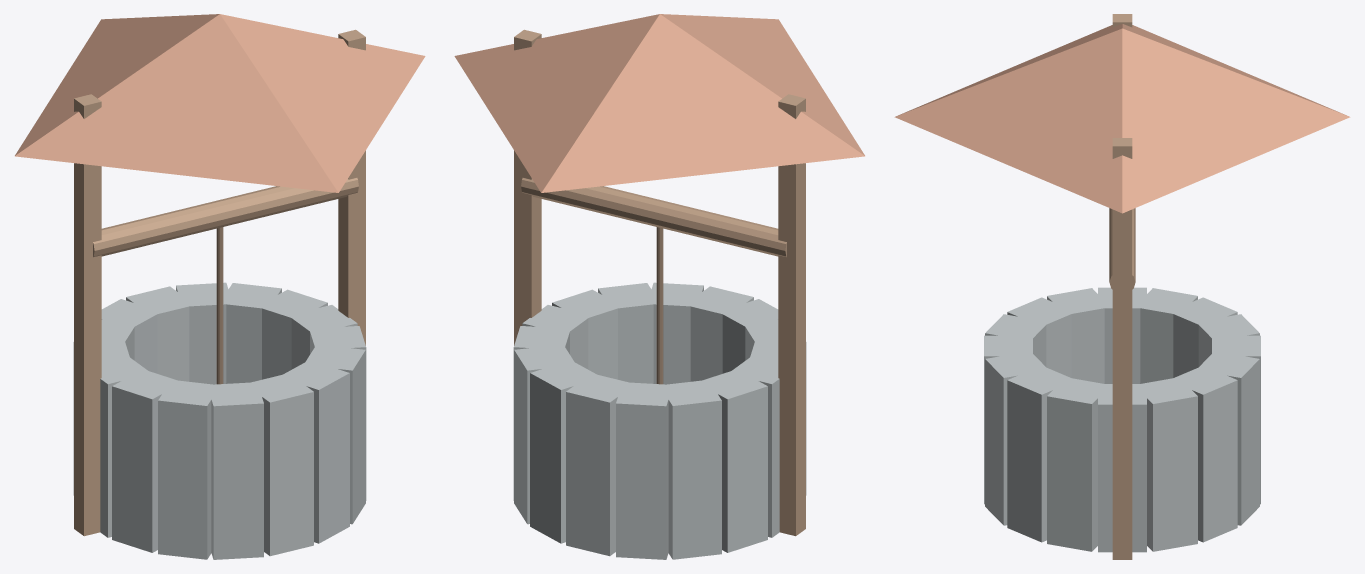
Rendered from well.glb.
3 views of the same model, side by side, from view 1: azimuth 30°, elevation 25°; view 2: azimuth 150°, elevation 25°; view 3: azimuth 270°, elevation 25° (orthographic). The views are drawn at different scales.
Parts seen in each view (by area): view 1: well_018, well_016, well_010, well_011, well_012, well_009, well_019, well_013, well_017, well_002, well_014, well_003 (+9 smaller); view 2: well_018, well_016, well_006, well_005, well_004, well_007, well_019, well_003, well_017, well_014, well_002, well_013 (+9 smaller); view 3: well_018, well_001, well_015, well_017, well_002, well_014, well_000, well_003, well_013, well_007, well_009, well_010 (+7 smaller).
Boxes of the visible parts, left/top/right/bottom form: well_018: left=15, top=14, right=425, bottom=192; well_016: left=74, top=94, right=101, bottom=536; well_010: left=158, top=380, right=212, bottom=559; well_011: left=207, top=382, right=263, bottom=559; well_012: left=252, top=373, right=313, bottom=556; well_009: left=112, top=369, right=182, bottom=552; well_019: left=93, top=178, right=358, bottom=257; well_013: left=283, top=362, right=349, bottom=543; well_017: left=338, top=29, right=365, bottom=345; well_002: left=223, top=283, right=281, bottom=383; well_014: left=304, top=347, right=365, bottom=524; well_003: left=176, top=282, right=231, bottom=384; well_018: left=454, top=14, right=864, bottom=192; well_016: left=778, top=94, right=805, bottom=536; well_006: left=664, top=380, right=721, bottom=559; well_005: left=616, top=382, right=671, bottom=559; well_004: left=566, top=373, right=627, bottom=556; well_007: left=697, top=369, right=767, bottom=552; well_019: left=521, top=178, right=786, bottom=257; well_003: left=530, top=362, right=596, bottom=543; well_017: left=514, top=29, right=541, bottom=345; well_014: left=598, top=283, right=653, bottom=383; well_002: left=514, top=347, right=575, bottom=524; well_013: left=647, top=282, right=703, bottom=384; well_018: left=894, top=24, right=1350, bottom=213; well_001: left=1134, top=377, right=1197, bottom=551; well_015: left=1047, top=378, right=1110, bottom=551; well_017: left=1112, top=138, right=1132, bottom=559; well_002: left=1169, top=368, right=1237, bottom=542; well_014: left=1007, top=368, right=1075, bottom=542; well_000: left=1098, top=384, right=1146, bottom=552; well_003: left=1196, top=351, right=1259, bottom=525; well_013: left=985, top=351, right=1048, bottom=525; well_007: left=1135, top=288, right=1197, bottom=383; well_009: left=1047, top=288, right=1104, bottom=383; well_010: left=1007, top=297, right=1075, bottom=377.
Bounding box in the file's own units: 2.8 × 3.15 × 2.8.
